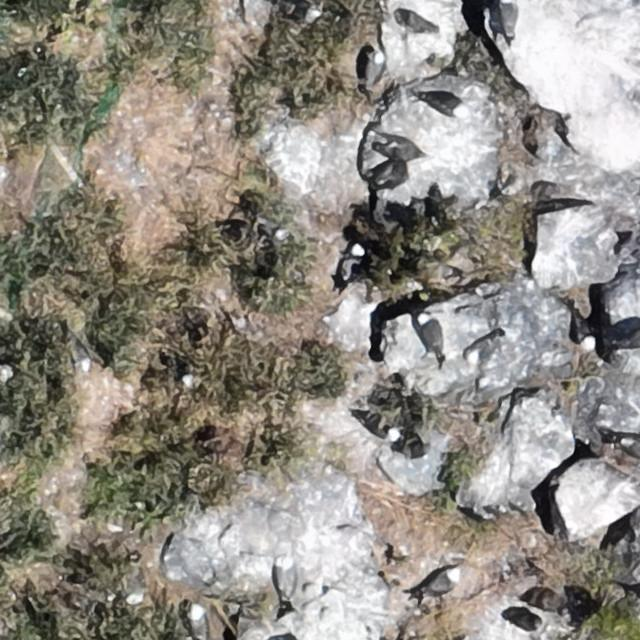umineko: (333, 241, 365, 288), (571, 313, 601, 349), (429, 94, 470, 120), (468, 332, 500, 365), (425, 566, 462, 594), (417, 317, 440, 354), (361, 420, 398, 440), (286, 3, 322, 22), (366, 52, 383, 84), (190, 606, 208, 636), (509, 612, 539, 630), (278, 559, 292, 593), (74, 344, 92, 370), (621, 438, 640, 460), (0, 363, 10, 382)
